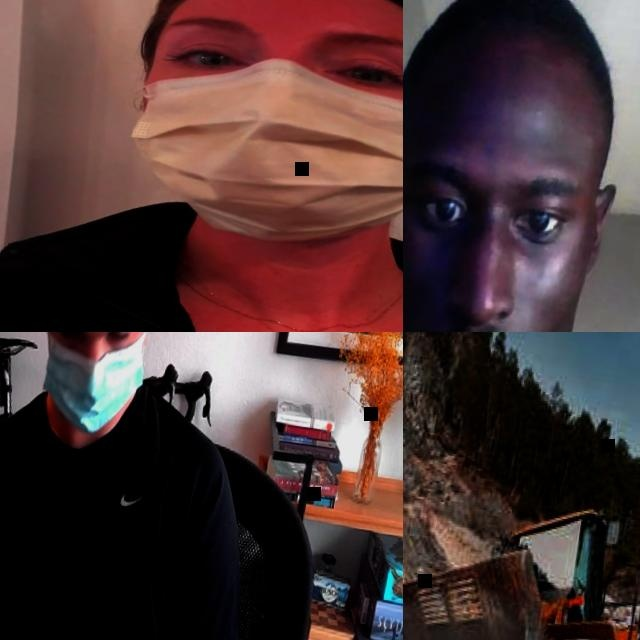Mask: (118, 55, 403, 263), (33, 332, 153, 439)
NO-Hardhat: (403, 0, 637, 126), (153, 0, 403, 50)
NO-Mask: (403, 251, 580, 332)
NO-Safety Vest: (0, 385, 220, 640), (0, 215, 403, 332)
Person: (0, 0, 403, 332), (0, 332, 315, 640), (403, 0, 640, 332)
machinery: (403, 469, 640, 640)
